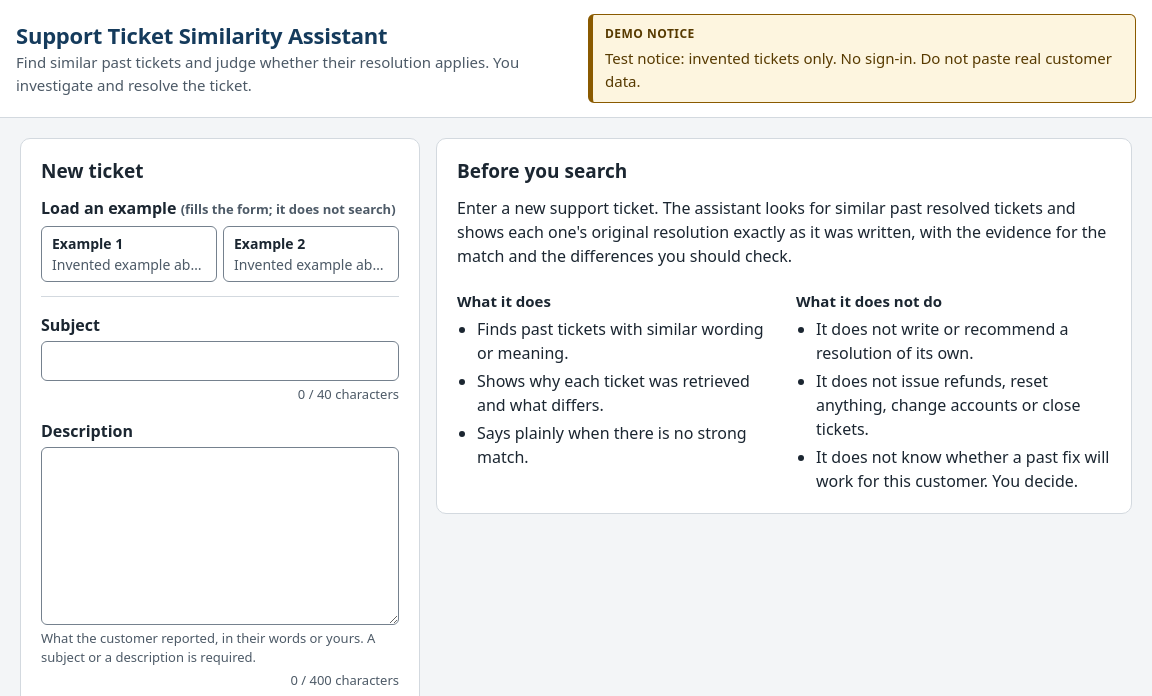
Test: search requests › does not render an answer that arrives after Clear
The image size is (1152, 696).
Expected: the heading "Before you search" is shown, left=457, top=158, right=627, bottom=184
Type "Alpha problem" into the field labelled "Subject".
click(220, 361); type("Alpha problem")  # box left=41, top=341, right=399, bottom=381
(page scrolled)
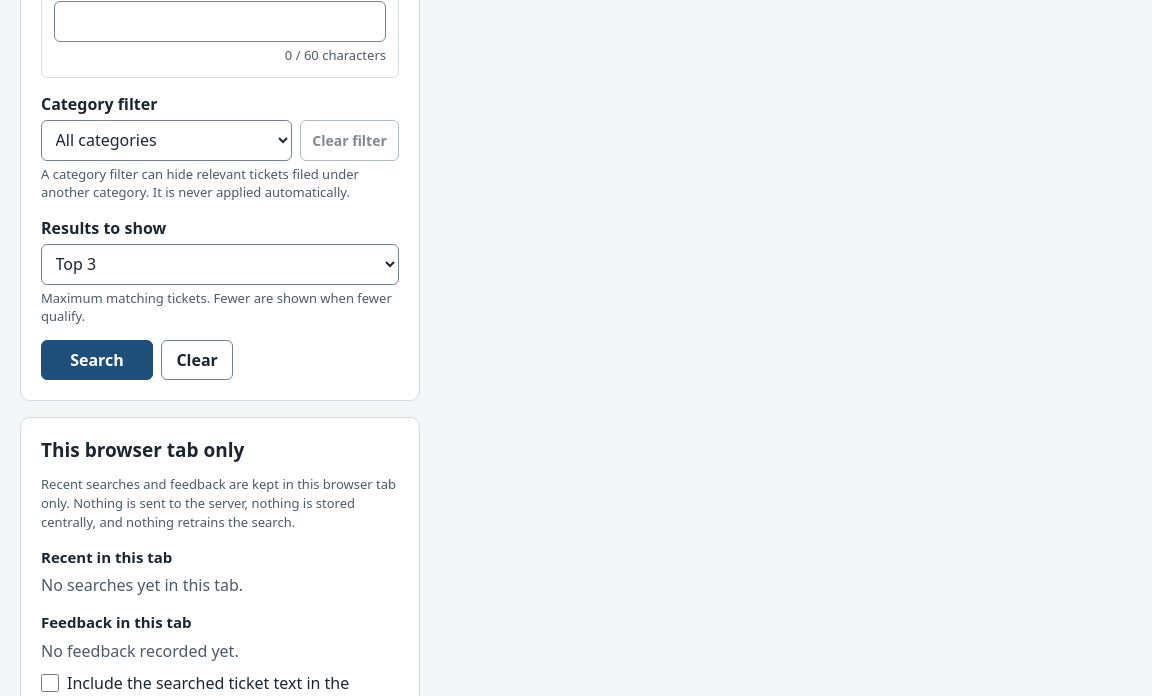
Click the button "Search".
click(97, 360)  # box left=41, top=340, right=153, bottom=380
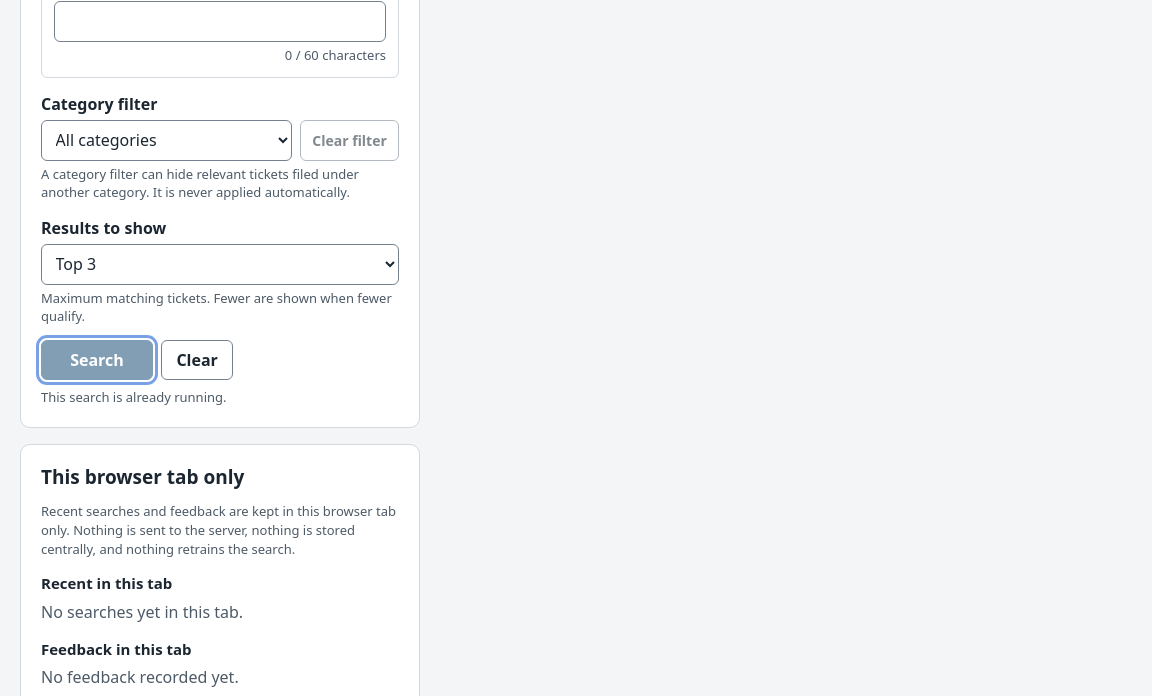
Click the button "Clear".
click(197, 360)  # box left=161, top=340, right=233, bottom=380
(page scrolled)
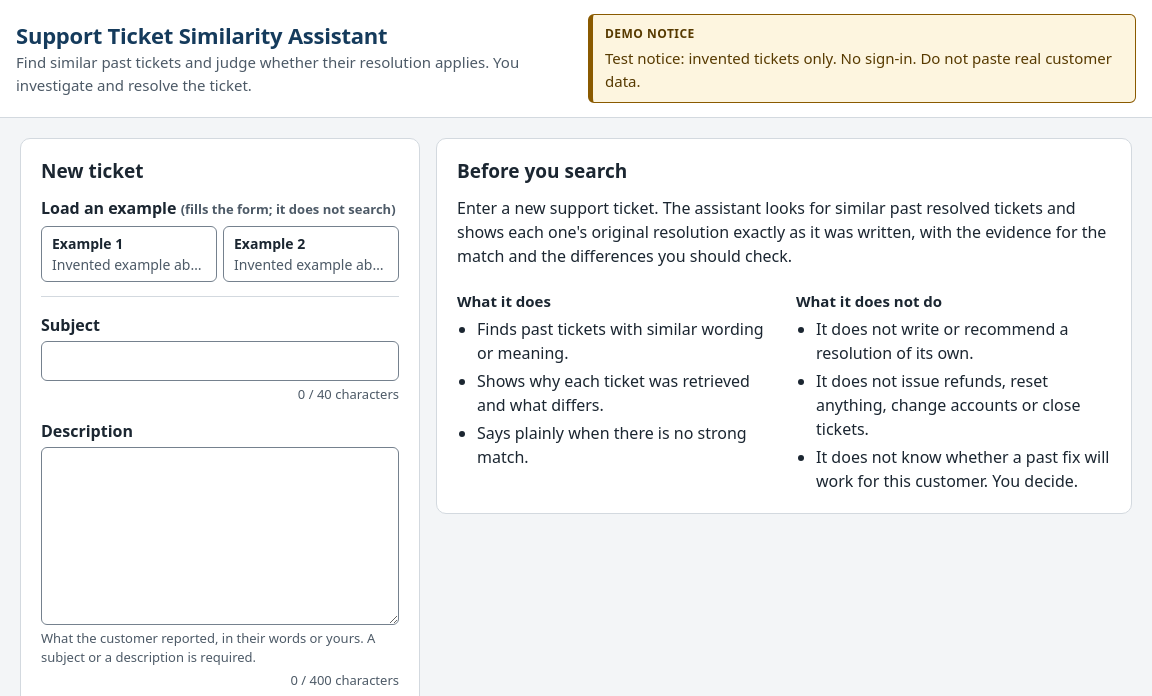
Result: the heading "Before you search" is shown at left=457, top=158, right=627, bottom=184
Result: the field labelled "Subject" is empty at left=41, top=341, right=399, bottom=381
